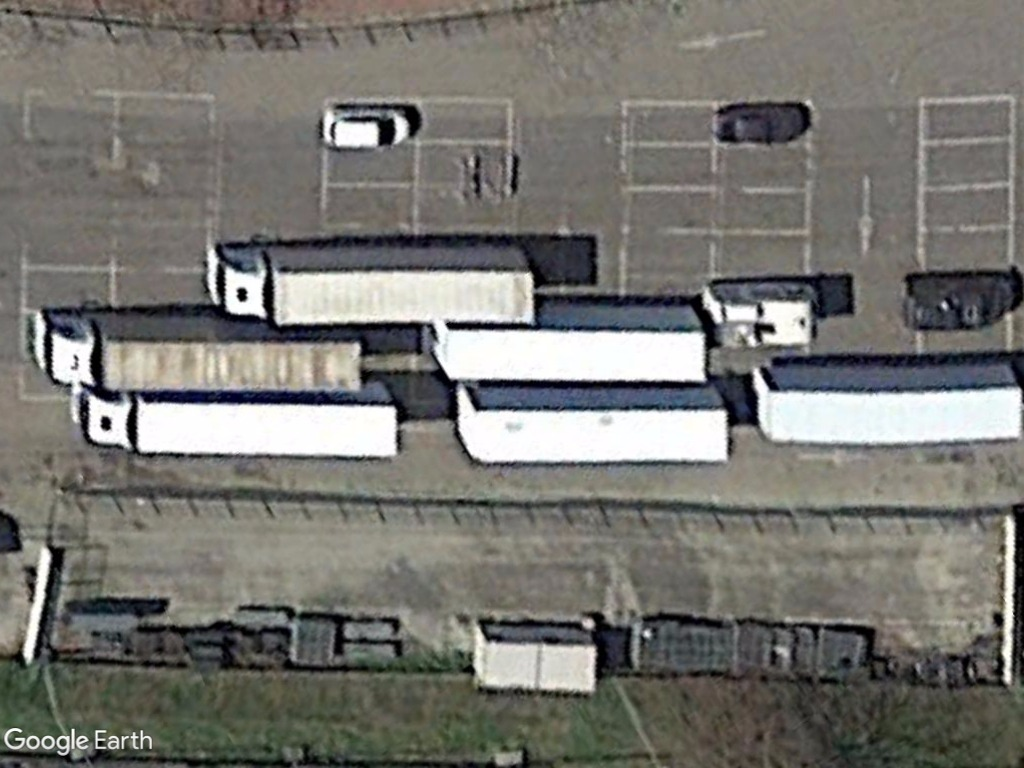car: (317, 101, 416, 153), (713, 101, 812, 144)
longvehicle: (32, 305, 369, 397), (203, 240, 540, 327), (68, 383, 405, 465)
